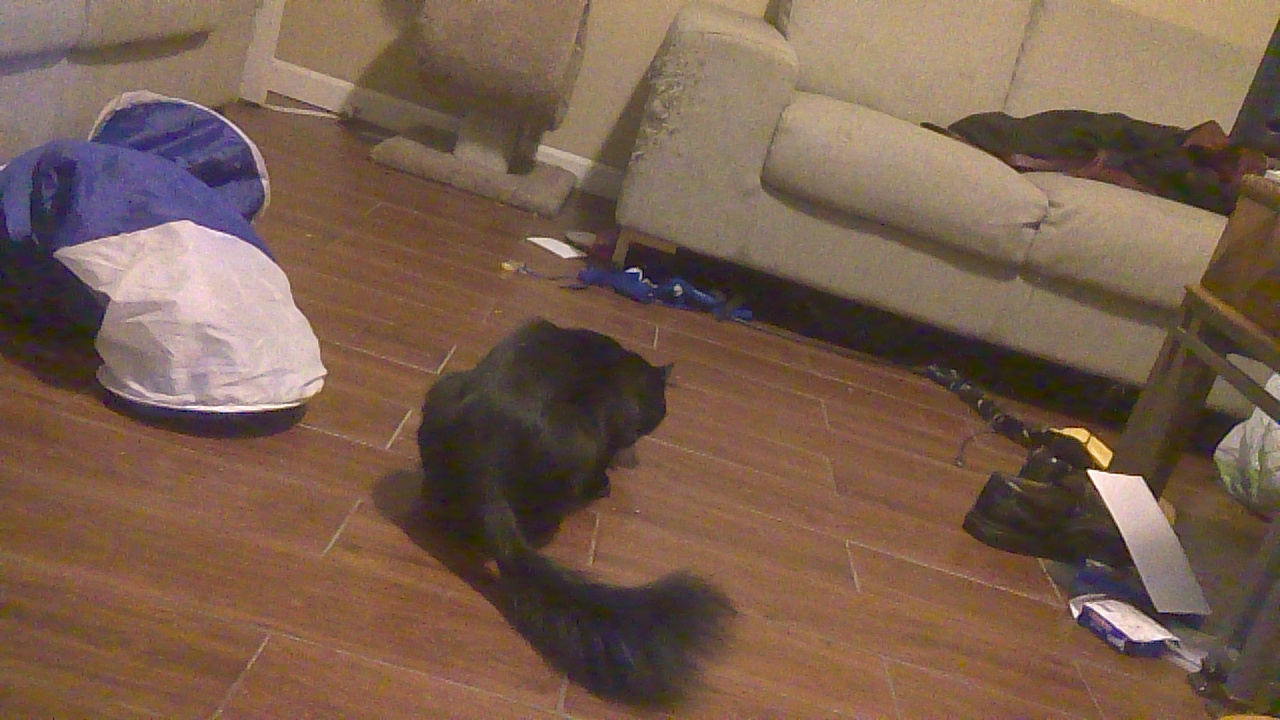cat: (415, 308, 733, 703)
